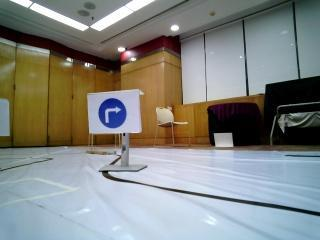right: (91, 92, 138, 133)
